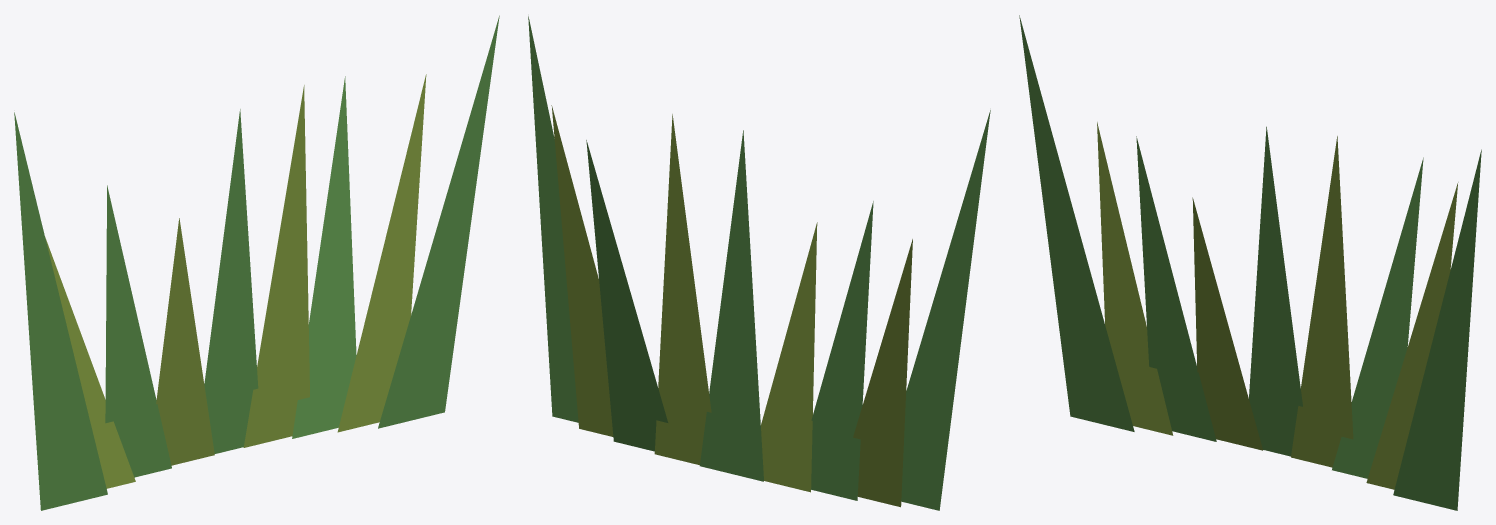
File: decor_grass.glb
3 renders of one model, left to right at view 1: azimuth 30°, elevation 25°; view 2: azimuth 150°, elevation 25°; view 3: azimuth 330°, elevation 25°, orthographic. The views are drawn at different scales.
Visible parts, largest first — view 1: decor_grass; view 2: decor_grass; view 3: decor_grass.
Part boxes in pixels (x1,y1,x2,y2): decor_grass: (14, 15, 499, 510); decor_grass: (528, 16, 990, 510); decor_grass: (1019, 15, 1481, 510).
Size of the model in its own units: 0.3603 by 0.2987 by 0.0605.
